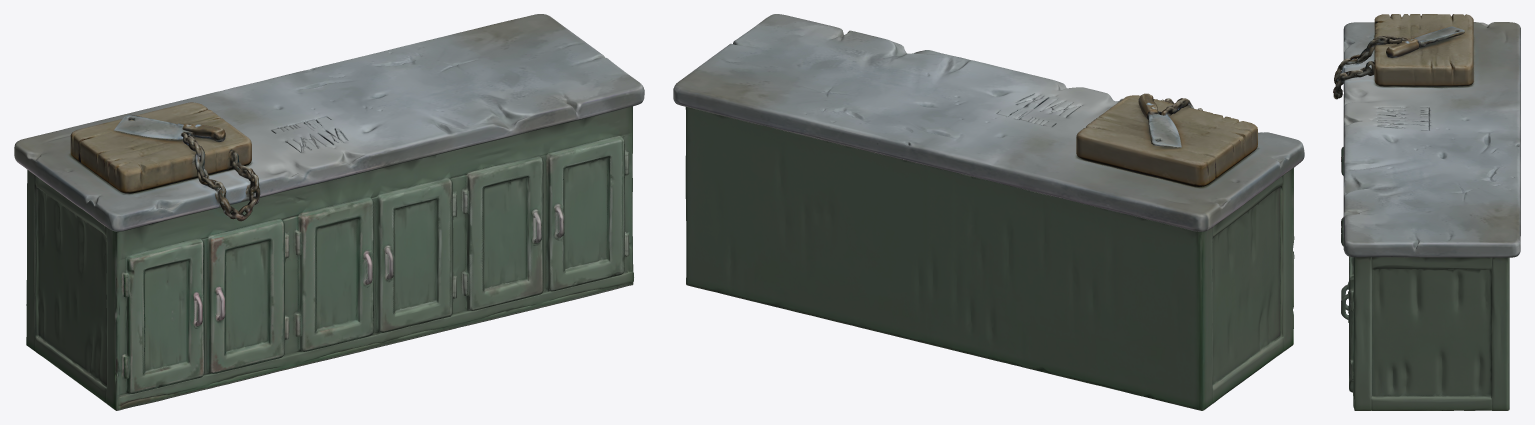
Rendered from silo81_counter.glb.
The picture shows the model from 3 angles, left to right: view 1: azimuth 30°, elevation 25°; view 2: azimuth 150°, elevation 25°; view 3: azimuth 270°, elevation 25°; orthographic projection. The views are drawn at different scales.
Visible parts, largest first — view 1: tripo_node_618bc7c8-a497-4ecf-8238-55e588647c70; view 2: tripo_node_618bc7c8-a497-4ecf-8238-55e588647c70; view 3: tripo_node_618bc7c8-a497-4ecf-8238-55e588647c70.
Part boxes in pixels (x1,y1,x2,y2): tripo_node_618bc7c8-a497-4ecf-8238-55e588647c70: [14, 14, 644, 410]; tripo_node_618bc7c8-a497-4ecf-8238-55e588647c70: [673, 14, 1304, 410]; tripo_node_618bc7c8-a497-4ecf-8238-55e588647c70: [1333, 14, 1520, 410].
Bounding box in the file's own units: 0.9793 × 0.4126 × 0.3495.
Materials: 1 (1 with a texture image).
